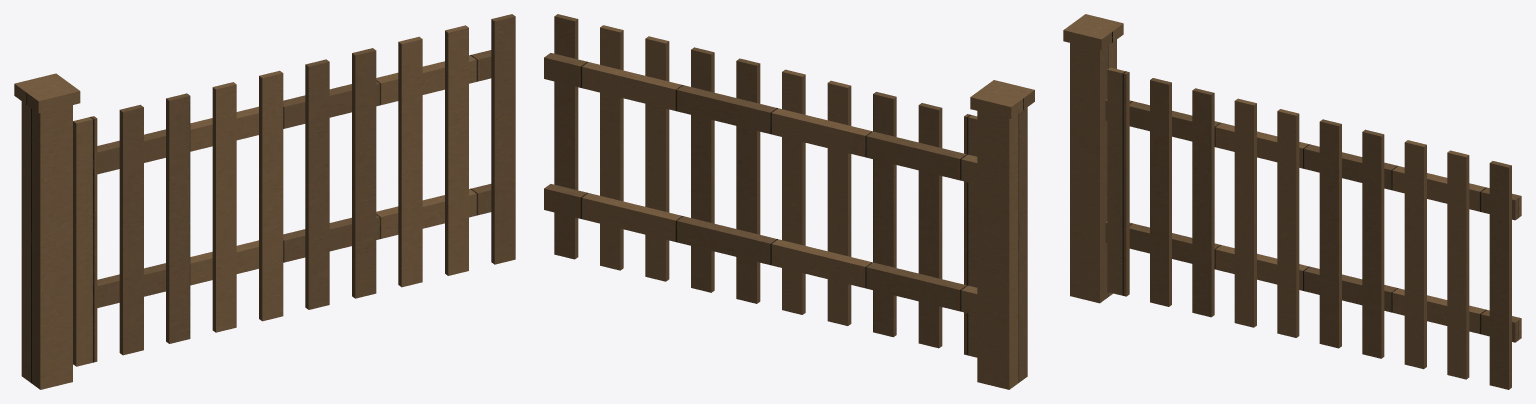
The model's file is prp_fence_module_a_LOD1.glb.
3 renders of one model, left to right at view 1: azimuth 30°, elevation 25°; view 2: azimuth 150°, elevation 25°; view 3: azimuth 330°, elevation 25°, orthographic. The views are drawn at different scales.
Parts seen in each view (by area): view 1: prp_fence_module_a_wood; view 2: prp_fence_module_a_wood; view 3: prp_fence_module_a_wood.
Boxes of the visible parts, x1=… form: prp_fence_module_a_wood: x1=14, y1=14, x2=515, y2=389; prp_fence_module_a_wood: x1=544, y1=14, x2=1034, y2=389; prp_fence_module_a_wood: x1=1063, y1=14, x2=1521, y2=389.
Bounding box in the file's own units: 2.09 × 1.2 × 0.18.
Materials: 1 (1 with a texture image).
